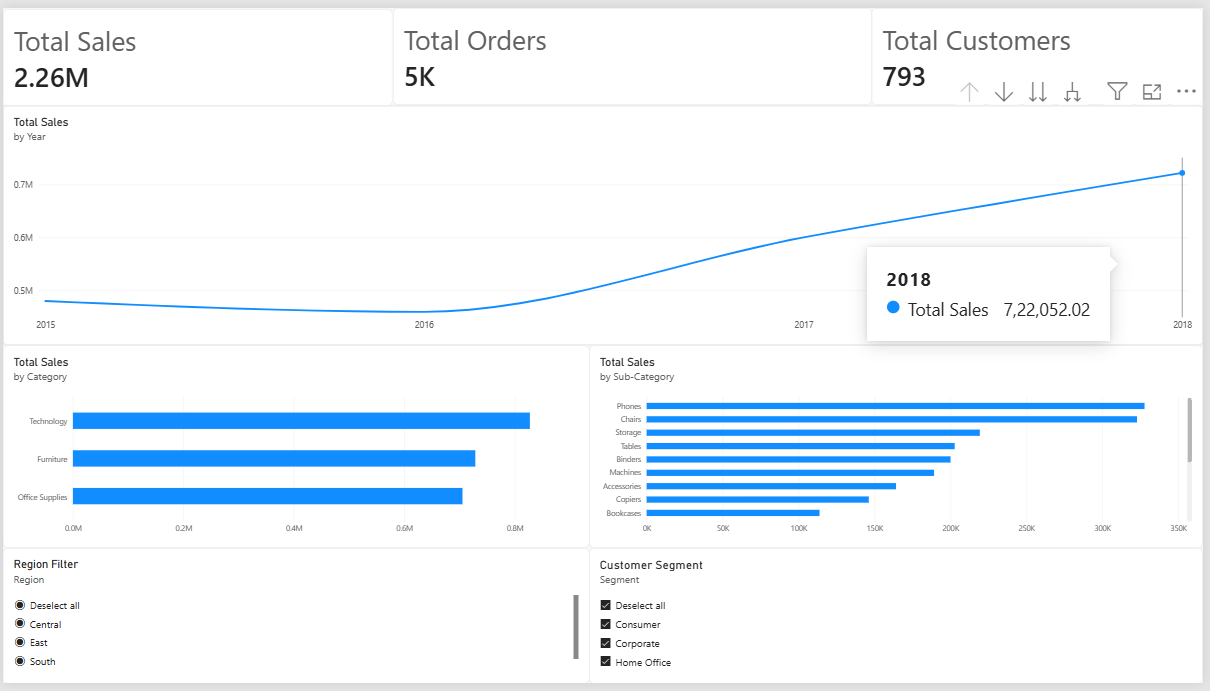

This screenshot's page, from the dashboard's own definition file:
{"tool":"powerbi","page":{"name":"Page 1","canvas":[1920,1080],"ordinal":0},"visuals":[{"type":"cardVisual","fields":{"Data":["clean_sales_data.Total Sales"]},"box":[0,1.7,623.3,155],"z":1},{"type":"cardVisual","fields":{"Data":["clean_sales_data.Total Orders"]},"box":[623.3,0,766.7,155],"z":2},{"type":"cardVisual","fields":{"Data":["clean_sales_data.Total Customers"]},"box":[1390,0,530,155],"z":3},{"type":"lineChart","fields":{"Category":["clean_sales_data.Order Date.Variation.Date Hierarchy.Year","clean_sales_data.Order Date.Variation.Date Hierarchy.Quarter","clean_sales_data.Order Date.Variation.Date Hierarchy.Month","clean_sales_data.Order Date.Variation.Date Hierarchy.Day"],"Y":["clean_sales_data.Total Sales"]},"box":[0,156.7,1920,383.3],"z":4},{"type":"clusteredBarChart","fields":{"Category":["clean_sales_data.Category"],"Y":["clean_sales_data.Total Sales"]},"box":[0,540,938.3,323.3],"z":5},{"type":"clusteredBarChart","fields":{"Category":["clean_sales_data.Sub-Category"],"Y":["clean_sales_data.Total Sales"]},"box":[938.3,540,981.7,323.3],"z":6},{"type":"listSlicer","title":"Region Filter","fields":{"Values":["clean_sales_data.Region"]},"box":[0,863.3,938.3,216.7],"z":7},{"type":"listSlicer","title":"Customer Segment","fields":{"Values":["clean_sales_data.Segment"]},"box":[938.3,863.3,981.7,216.7],"z":8},{"type":"textbox","box":[1656,0,264,368],"z":9}]}

Visuals, with their boxes in screenshot pixels (x1, y1, x2, y2), scaled from the page's 1920x1080 canvas onto the 1210x691 screenshot:
cardVisual - clean_sales_data.Total Sales: box(0, 1, 393, 100)
cardVisual - clean_sales_data.Total Orders: box(393, 0, 876, 99)
cardVisual - clean_sales_data.Total Customers: box(876, 0, 1209, 99)
lineChart - clean_sales_data.Order Date.Variation.Date Hierarchy.Year x clean_sales_data.Order Date.Variation.Date Hierarchy.Quarter: box(0, 100, 1209, 346)
clusteredBarChart - clean_sales_data.Category x clean_sales_data.Total Sales: box(0, 346, 591, 552)
clusteredBarChart - clean_sales_data.Sub-Category x clean_sales_data.Total Sales: box(591, 346, 1209, 552)
"Region Filter" listSlicer: box(0, 552, 591, 690)
"Customer Segment" listSlicer: box(591, 552, 1209, 690)
textbox: box(1044, 0, 1209, 235)
